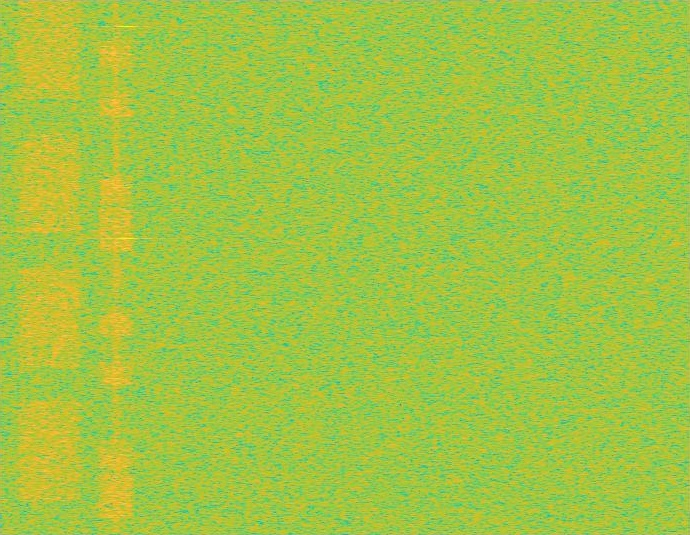5G: (15, 0, 84, 534)
DSSS: (112, 0, 120, 534)
LTE: (99, 0, 134, 534)
Radar: (120, 0, 134, 534)
